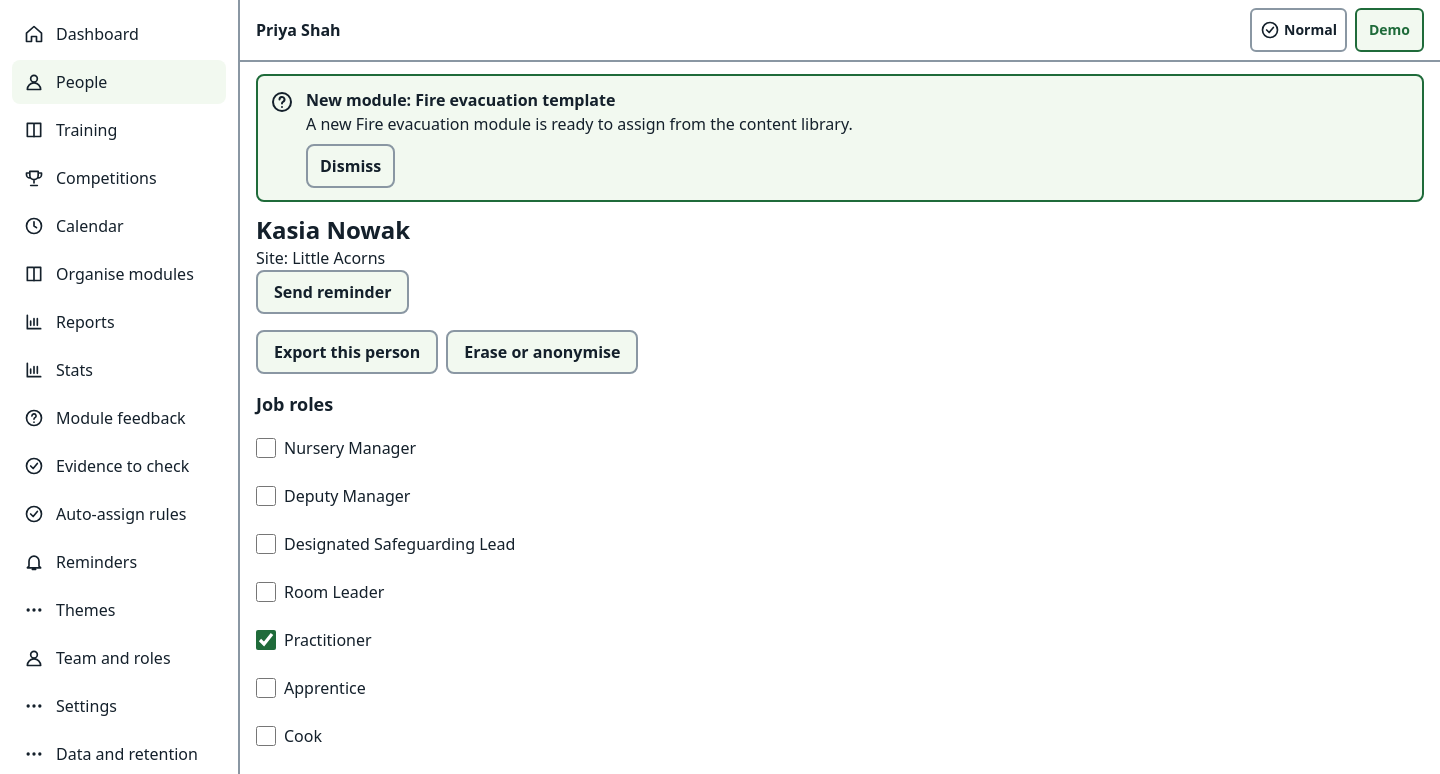
Test case: C3 Erase or anonymise › delete everything removes the Evidence as well
Check: the heading "Kasia Nowak" is shown, box [256,214,410,246]
Step 1. Click the button "Erase or anonymise" → x=542, y=352, box [446,330,638,374]
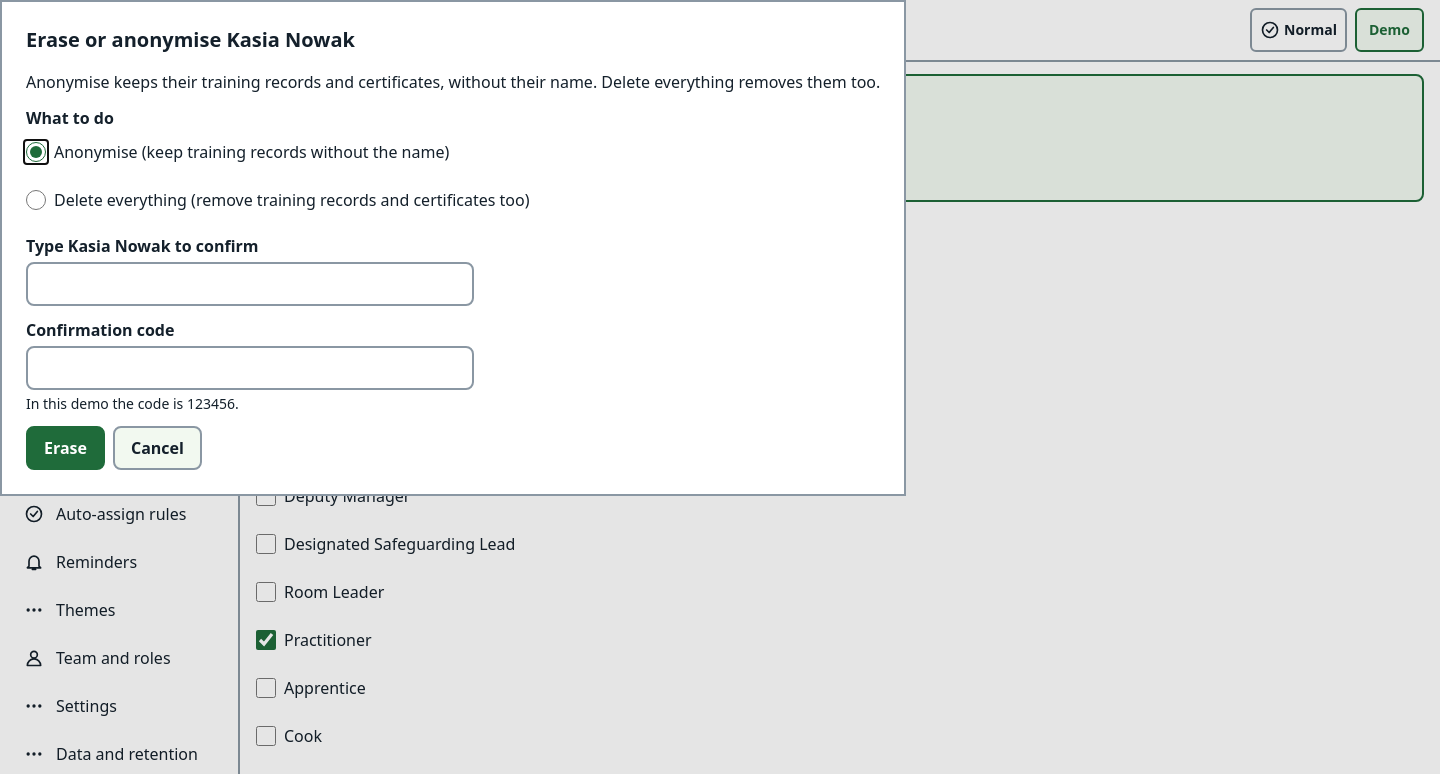
Step 2. Click the 2nd radio button → x=36, y=200, box [26,190,46,210]
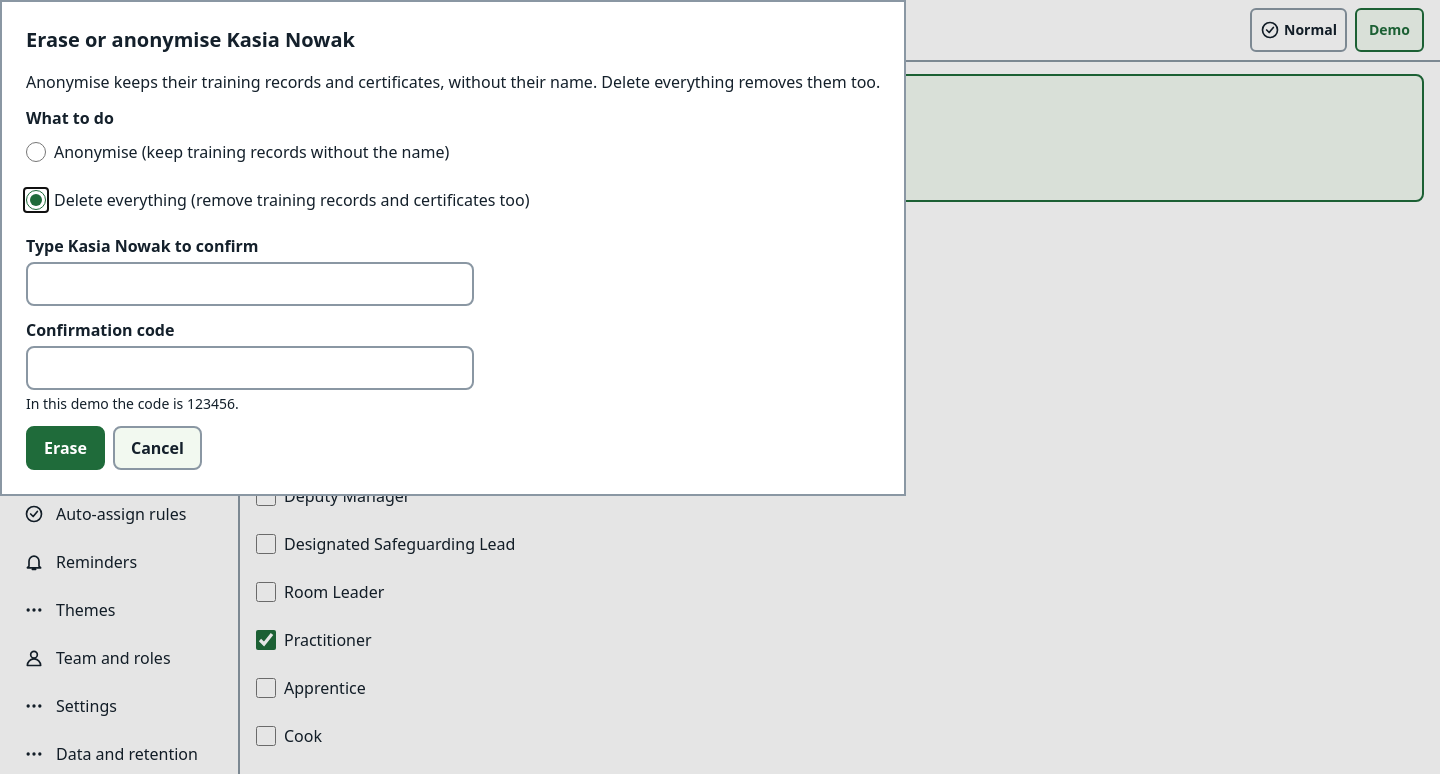
Step 3. Type "Kasia Nowak" into the field labelled "Type Kasia Nowak to confirm" → x=250, y=284, box [26,262,474,306]
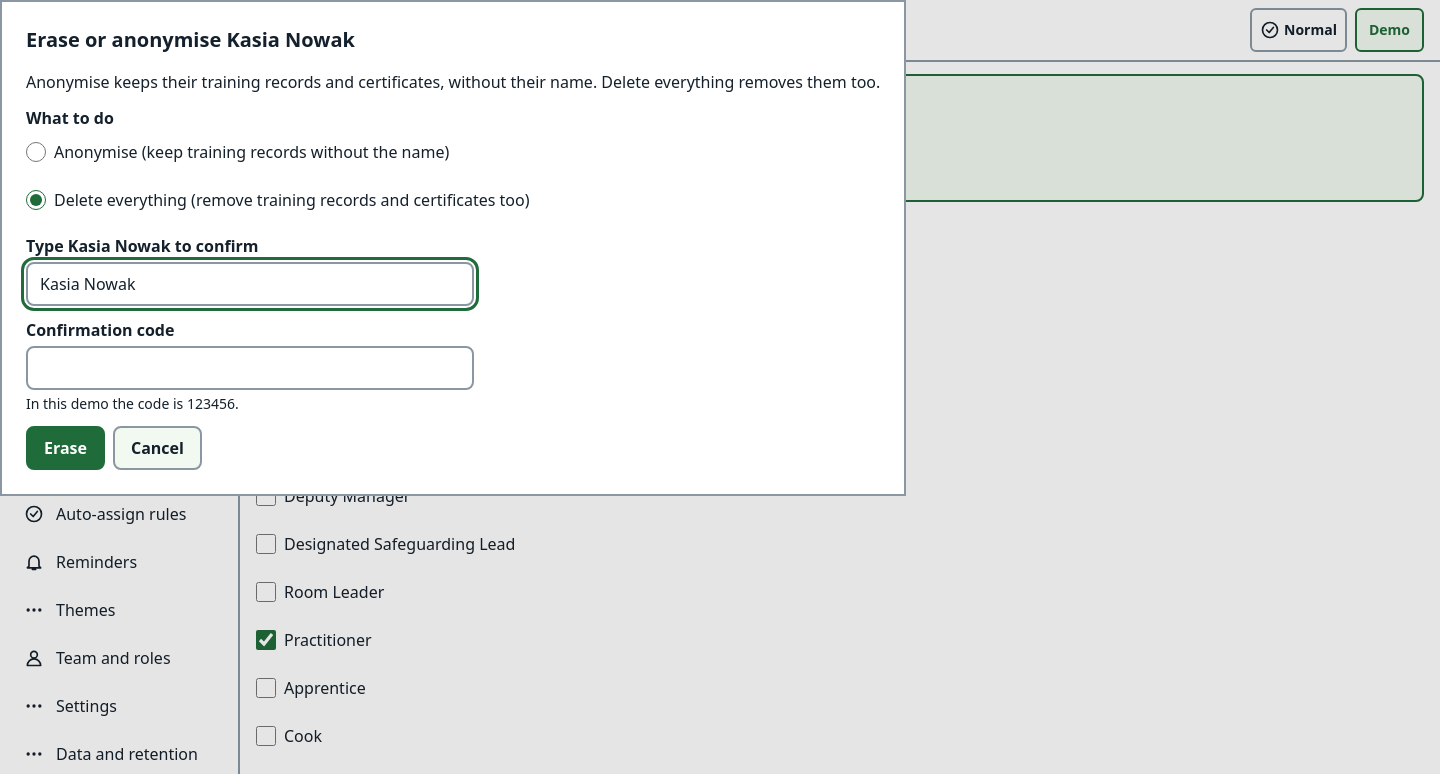
Step 4. Type "123456" into the field labelled "Confirmation code" → x=250, y=368, box [26,346,474,390]
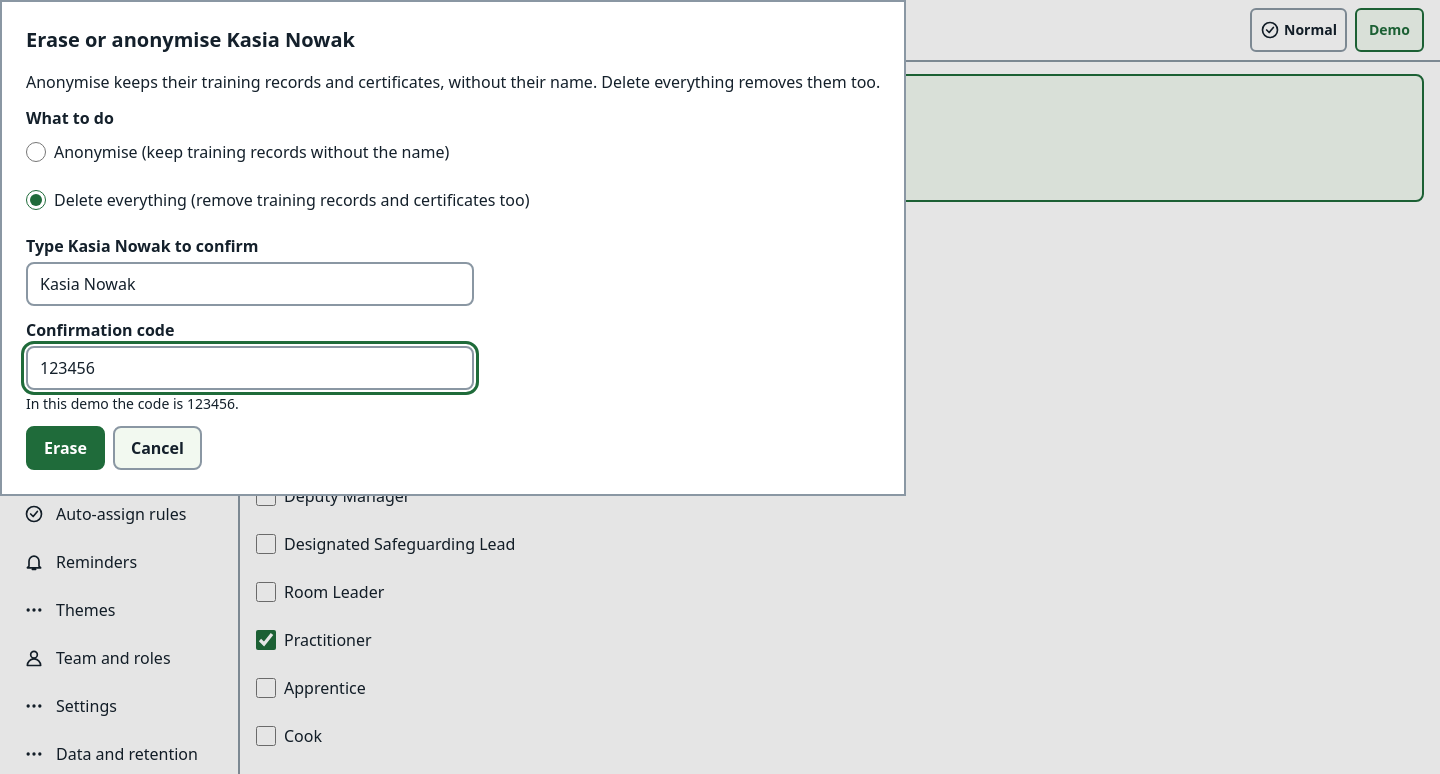
Step 5. Click the button "Erase" → x=66, y=448, box [26,426,105,470]
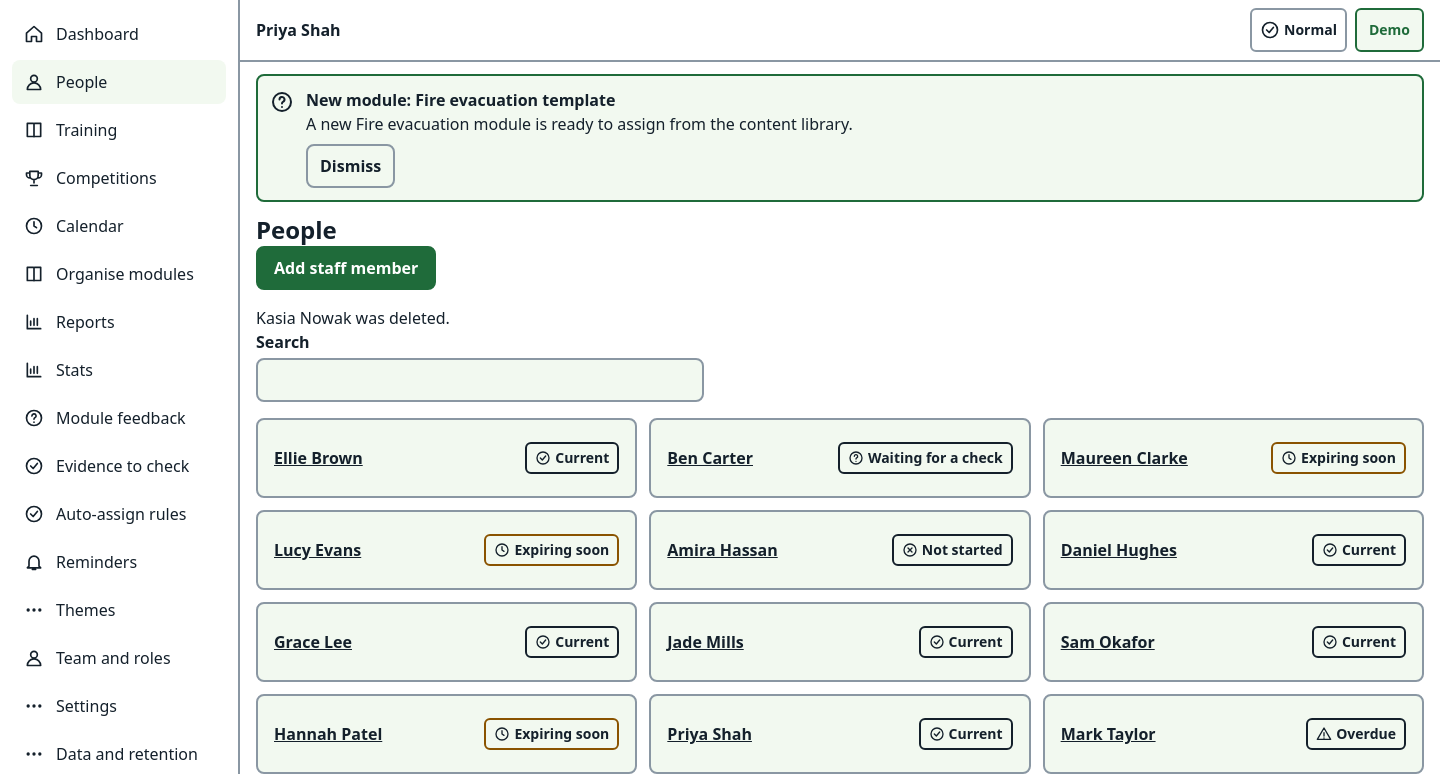
Check: the message reads "Kasia Nowak was deleted.", box [256,307,450,329]
